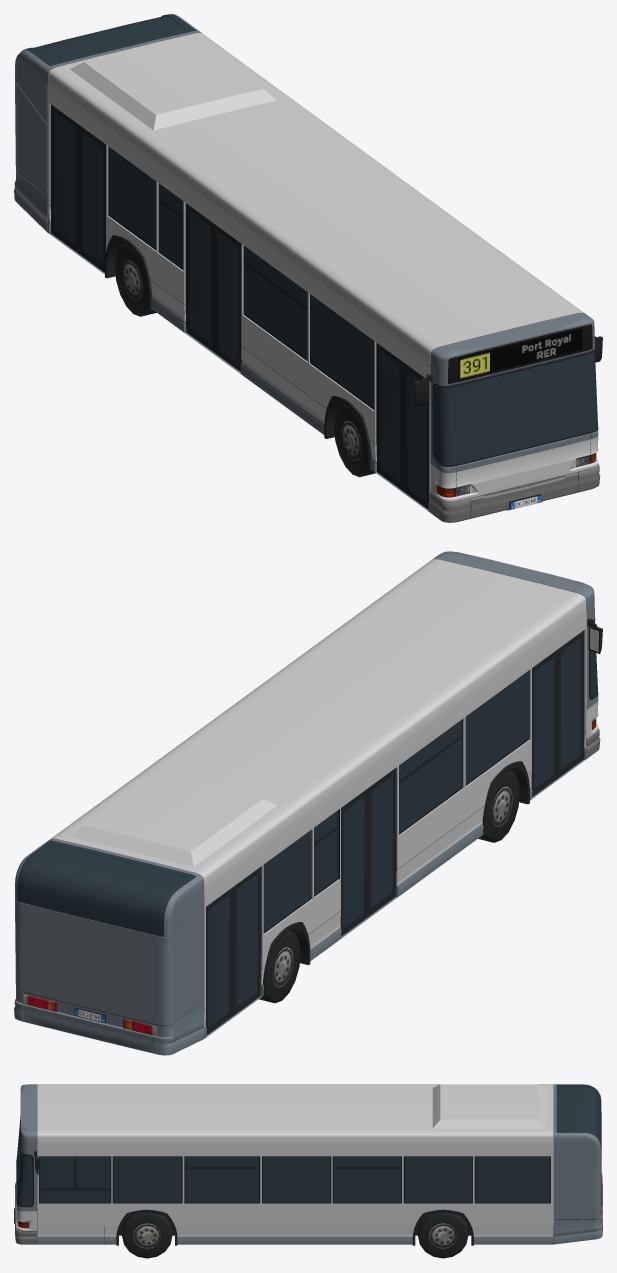
File: bus.glb
The picture shows the model from 3 angles, top to bottom: view 1: azimuth 30°, elevation 25°; view 2: azimuth 150°, elevation 25°; view 3: azimuth 270°, elevation 25°; orthographic projection. The views are drawn at different scales.
Visible parts, largest first — view 1: trim-whiteBase-body, glass-glass-body, paint-accentColor-body, rubber-blackRubber-body, glass-darkglass-body, trim-texturedParts-body, trim-bumper-body, rubber-blackPlastic-body, trim-display-body, rubber-tires-(False, False), rubber-tires-(False, True); view 2: trim-whiteBase-body, glass-glass-body, paint-accentColor-body, rubber-blackRubber-body, glass-darkglass-body, rubber-blackPlastic-body, rubber-tires-(False, True), rubber-tires-(False, False), trim-texturedParts-body; view 3: trim-whiteBase-body, glass-glass-body, paint-accentColor-body, glass-darkglass-body, rubber-blackRubber-body, rubber-tires-(True, False), rubber-tires-(True, True), rubber-blackPlastic-body, alloy-texturedParts-(True, True), alloy-texturedParts-(True, False), trim-darkColor-body, trim-bumper-body.
Boxes of the visible parts, box(x1,y1,x2,y2) form: trim-whiteBase-body: box(48, 33, 598, 502); glass-glass-body: box(34, 16, 597, 499); paint-accentColor-body: box(14, 14, 598, 512); rubber-blackRubber-body: box(50, 104, 429, 509); glass-darkglass-body: box(23, 14, 426, 501); trim-texturedParts-body: box(437, 328, 596, 509); trim-bumper-body: box(429, 464, 600, 522); rubber-blackPlastic-body: box(104, 235, 598, 470); trim-display-body: box(448, 324, 592, 384); rubber-tires-(False, False): box(334, 404, 375, 477); rubber-tires-(False, True): box(114, 244, 156, 316); trim-whiteBase-body: box(50, 559, 598, 1026); glass-glass-body: box(24, 621, 597, 1024); paint-accentColor-body: box(14, 551, 598, 1055); rubber-blackRubber-body: box(205, 630, 584, 1035); glass-darkglass-body: box(17, 638, 580, 1027); rubber-blackPlastic-body: box(263, 618, 598, 996); rubber-tires-(False, True): box(259, 931, 300, 1003); rubber-tires-(False, False): box(478, 770, 519, 842); trim-texturedParts-body: box(23, 718, 596, 1036); trim-whiteBase-body: box(16, 1084, 553, 1236); glass-glass-body: box(16, 1087, 601, 1205); paint-accentColor-body: box(16, 1084, 602, 1244); glass-darkglass-body: box(40, 1084, 601, 1202); rubber-blackRubber-body: box(39, 1156, 550, 1203); rubber-tires-(True, False): box(122, 1213, 172, 1258); rubber-tires-(True, True): box(418, 1213, 468, 1258); rubber-blackPlastic-body: box(16, 1149, 473, 1245); alloy-texturedParts-(True, True): box(429, 1223, 456, 1248); alloy-texturedParts-(True, False): box(133, 1223, 161, 1248); trim-darkColor-body: box(18, 1085, 600, 1244); trim-bumper-body: box(15, 1182, 36, 1244).
Size of the model in its own units: 3.03 by 3.02 by 12.19.
Materials: 14 (2 with a texture image).
